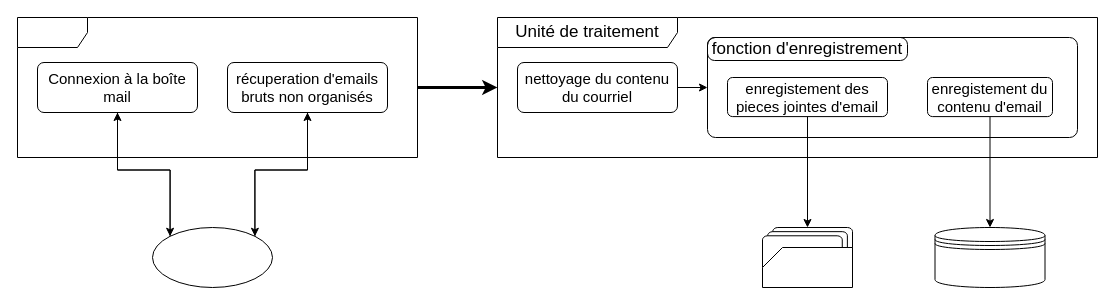
Image size: 1115x305. Some labels were removed from this diagram. The shapes that lost their labels are listed below. From the top down, each one's centre as x and y in pixels, then its label:
the point at 217,87: IMAP
the point at 212,257: GMAIL
the point at 807,267: dossier de pieces jointes
the point at 989,257: base de donnée (excel)
